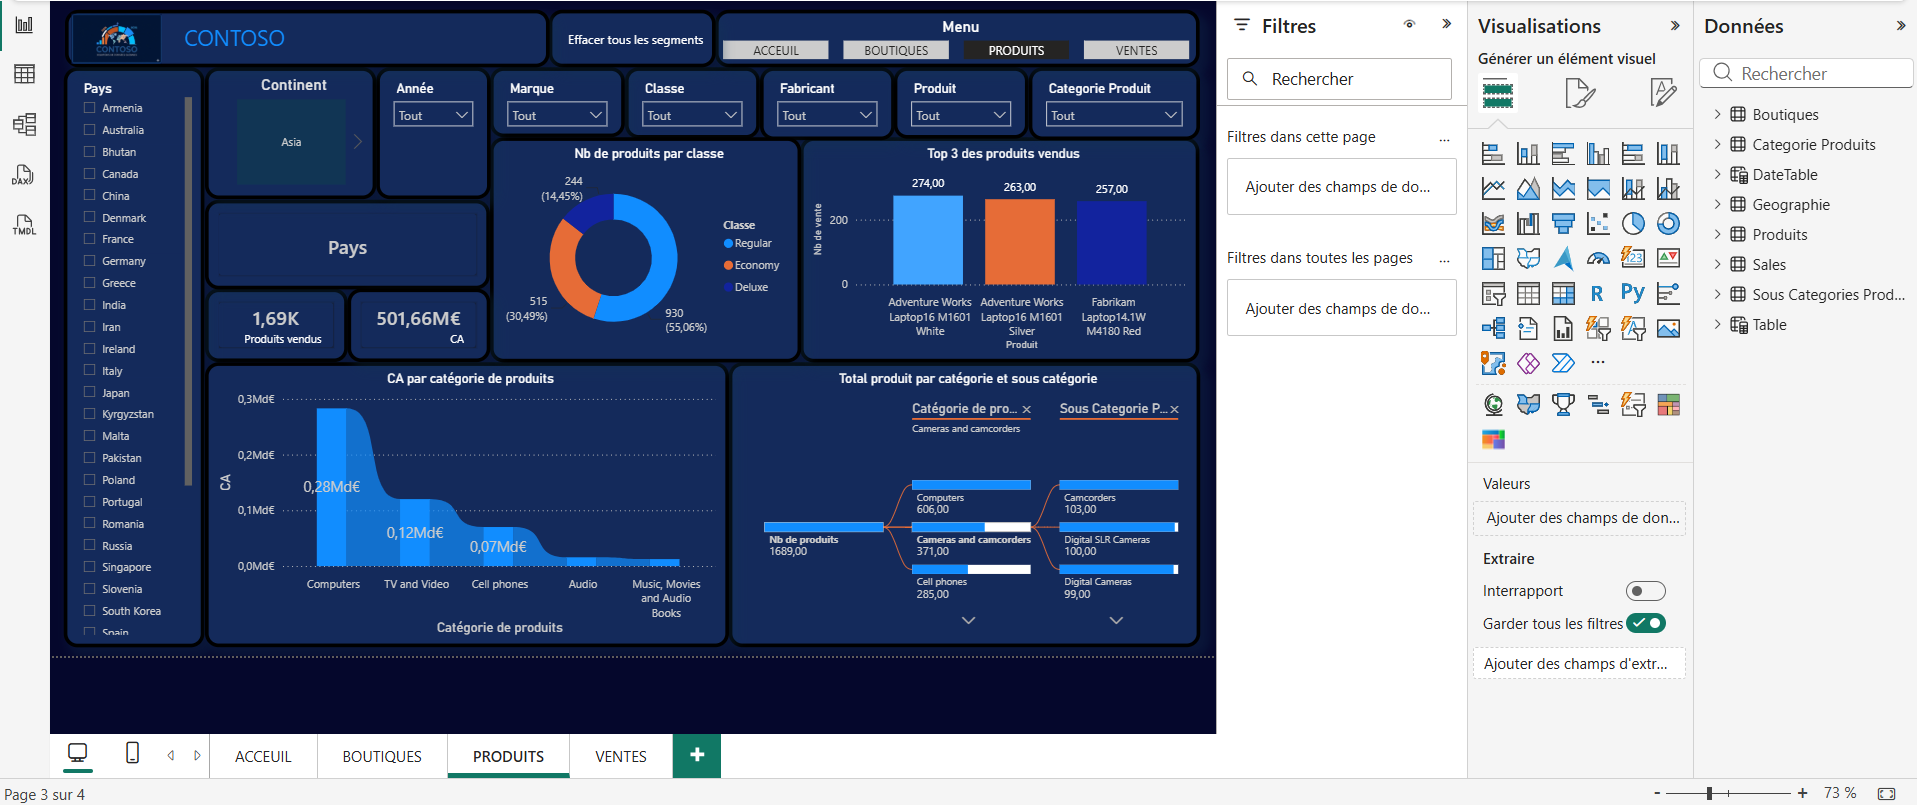

This screenshot's page, from the dashboard's own definition file:
{"tool":"powerbi","page":{"name":"PRODUITS","canvas":[1280,720],"ordinal":2},"visuals":[{"type":"slicer","title":"Class","fields":{"Values":["Produits.Class"]},"box":[631.2,72.9,147.8,78.8],"z":0},{"type":"slicer","title":"Marques","fields":{"Values":["Produits.Marque"]},"box":[483.4,72.9,147.8,76.8],"z":1000},{"type":"cardVisual","title":"Nb Produits","fields":{"Data":["Table.Nb de produits"]},"box":[170.2,316.1,156.6,80.7],"z":2000},{"type":"decompositionTreeVisual","title":"Total produit par catégorie et sous catégorie","fields":{"Analyze":["Table.Nb de produits"],"ExplainBy":["Categorie Produits.Categorie Produit","Sous Categories Produits.Sous Categorie Produit"]},"box":[745,396.8,517.4,313.2],"z":3000},{"type":"clusteredColumnChart","title":"Top 3 des produits vendus","fields":{"Category":["Produits.Produit"],"Y":["Table.Nb de vente"]},"box":[823.8,149.8,438.7,247.1],"z":4000},{"type":"slicer","fields":{"Values":["Geographie.Pays"]},"box":[15.6,72.9,154.7,637.1],"z":5000},{"type":"cardVisual","title":" ","fields":{"Data":["Table.pays selectionné"]},"box":[170.2,217.9,313.2,98.2],"z":6000},{"type":"slicer","title":"Class","fields":{"Values":["Produits.Fabricant"]},"box":[779.1,72.9,147.8,79.8],"z":7000},{"type":"slicer","title":"Class","fields":{"Values":["Produits.Produit"]},"box":[926.9,72.9,147.8,78.8],"z":8000},{"type":"slicer","title":"Continent","fields":{"Values":["Geographie.Continent"]},"box":[170,73.3,187.8,144.4],"z":9000},{"type":"slicer","title":"Sous produits","fields":{"Values":["Categorie Produits.Categorie Produit"]},"box":[1074.8,72.9,187.7,79.8],"z":10000},{"type":"ribbonChart","title":"CA par catégorie de produits","fields":{"Category":["Categorie Produits.Categorie Produit"],"Y":["Table.CA"]},"box":[170.2,396.8,574.8,313.2],"z":11000},{"type":"donutChart","title":"Nb de produits par classe","fields":{"Y":["CountNonNull(Produits.Produit)"],"Category":["Produits.Class"]},"box":[483.4,149.8,341.4,247.1],"z":12000},{"type":"cardVisual","fields":{"Data":["Table.CA"]},"box":[326.8,316.1,156.6,80.7],"z":13000},{"type":"pageNavigator","title":"Menu","box":[730.5,9.7,532,63.2],"z":14000},{"type":"actionButton","box":[547.6,9.7,182.9,63.2],"z":15000},{"type":"slicer","fields":{"Values":["DateTable.Année"]},"box":[357.8,73.3,125.6,144.4],"z":16000},{"type":"textbox","box":[16,10,532,63],"z":17000},{"type":"image","box":[23.3,12.2,98.9,57.8],"z":18000}]}

Visuals, with their boxes on the page's 1280x720 design canvas (x1, y1, x2, y2). These are canvas units, not pixel positions in the 1917x805 screenshot, which may show the page scaled, cropped or inside an application window:
"Class" slicer: l=631, t=73, r=779, b=152
"Marques" slicer: l=483, t=73, r=631, b=150
"Nb Produits" cardVisual: l=170, t=316, r=327, b=397
"Total produit par catégorie et sous catégorie" decompositionTreeVisual: l=745, t=397, r=1262, b=710
"Top 3 des produits vendus" clusteredColumnChart: l=824, t=150, r=1262, b=397
slicer - Geographie.Pays: l=16, t=73, r=170, b=710
" " cardVisual: l=170, t=218, r=483, b=316
"Class" slicer: l=779, t=73, r=927, b=153
"Class" slicer: l=927, t=73, r=1075, b=152
"Continent" slicer: l=170, t=73, r=358, b=218
"Sous produits" slicer: l=1075, t=73, r=1262, b=153
"CA par catégorie de produits" ribbonChart: l=170, t=397, r=745, b=710
"Nb de produits par classe" donutChart: l=483, t=150, r=825, b=397
cardVisual - Table.CA: l=327, t=316, r=483, b=397
"Menu" pageNavigator: l=730, t=10, r=1262, b=73
actionButton: l=548, t=10, r=730, b=73
slicer - DateTable.Année: l=358, t=73, r=483, b=218
textbox: l=16, t=10, r=548, b=73
image: l=23, t=12, r=122, b=70
